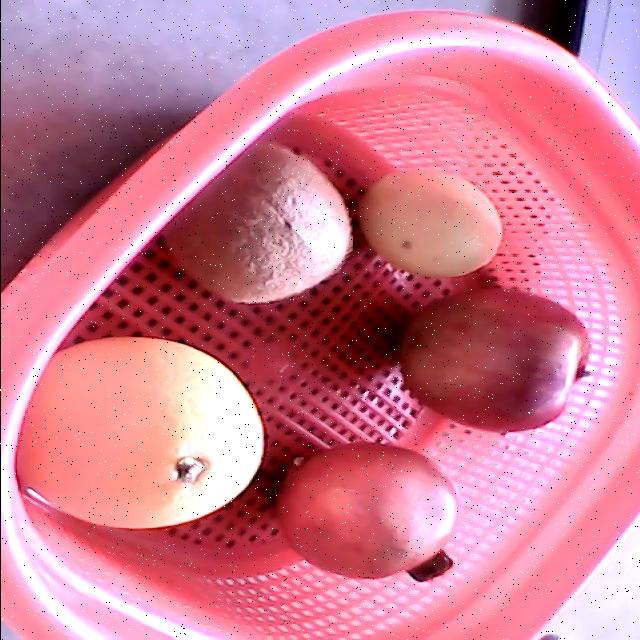apple: (398, 287, 591, 433)
kiwi: (163, 142, 351, 304)
lemon: (359, 169, 503, 277)
orange: (15, 336, 265, 529)
pomegranate: (273, 444, 459, 584)
